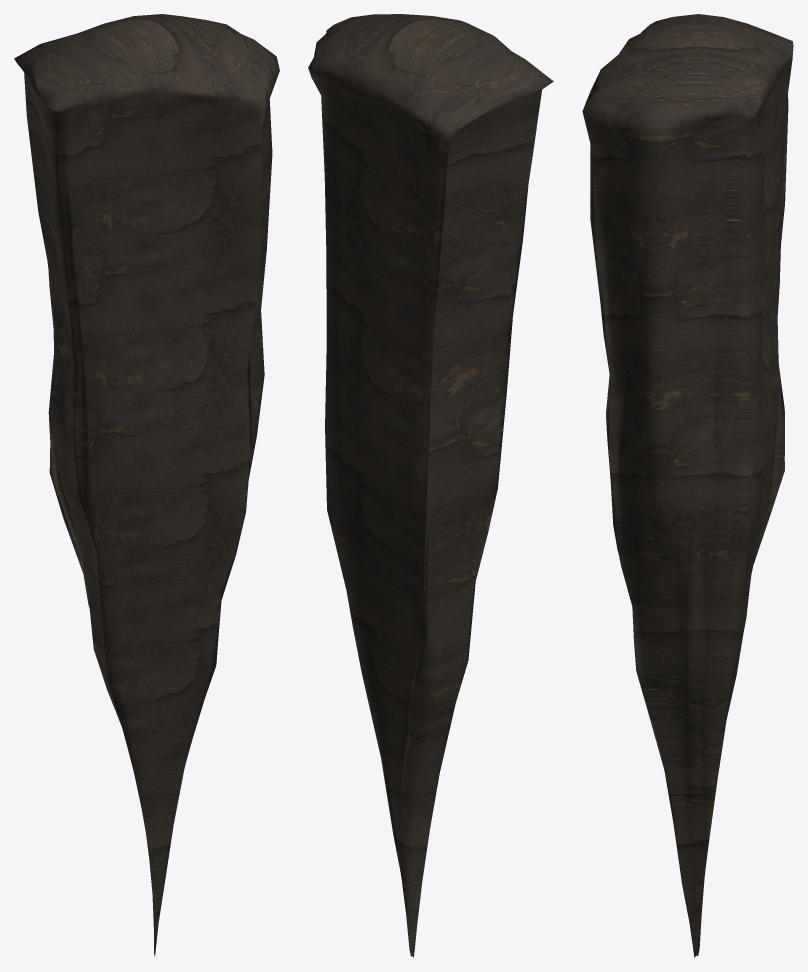
Rendered from cliff_fang_b_lod1.gltf.
The picture shows the model from 3 angles, left to right: view 1: azimuth 30°, elevation 25°; view 2: azimuth 150°, elevation 25°; view 3: azimuth 270°, elevation 25°; orthographic projection.
Visible parts, largest first — view 1: cliff_fang_b_LOD1; view 2: cliff_fang_b_LOD1; view 3: cliff_fang_b_LOD1.
Boxes of the visible parts, x1,y1,x2,y2 form: cliff_fang_b_LOD1: [14, 14, 279, 956]; cliff_fang_b_LOD1: [308, 14, 553, 957]; cliff_fang_b_LOD1: [582, 14, 793, 957].
Size of the model in its own units: 12.2 by 48 by 10.02.
Materials: 1 (1 with a texture image).
